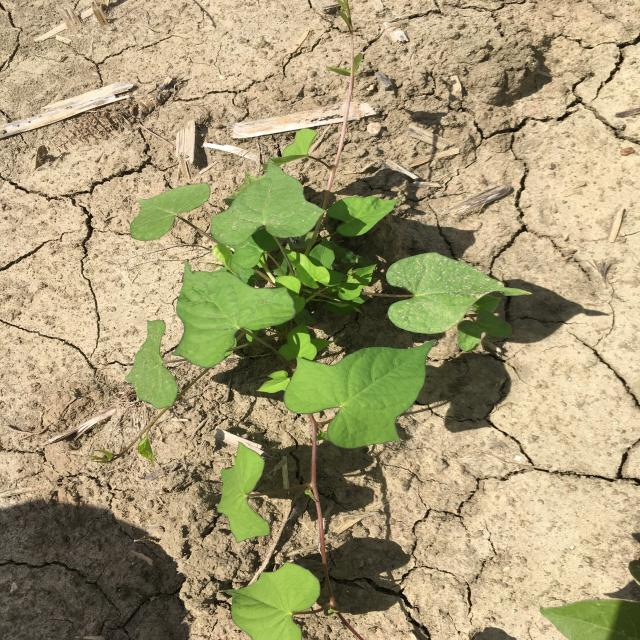MorningGlory: (91, 3, 531, 639)
